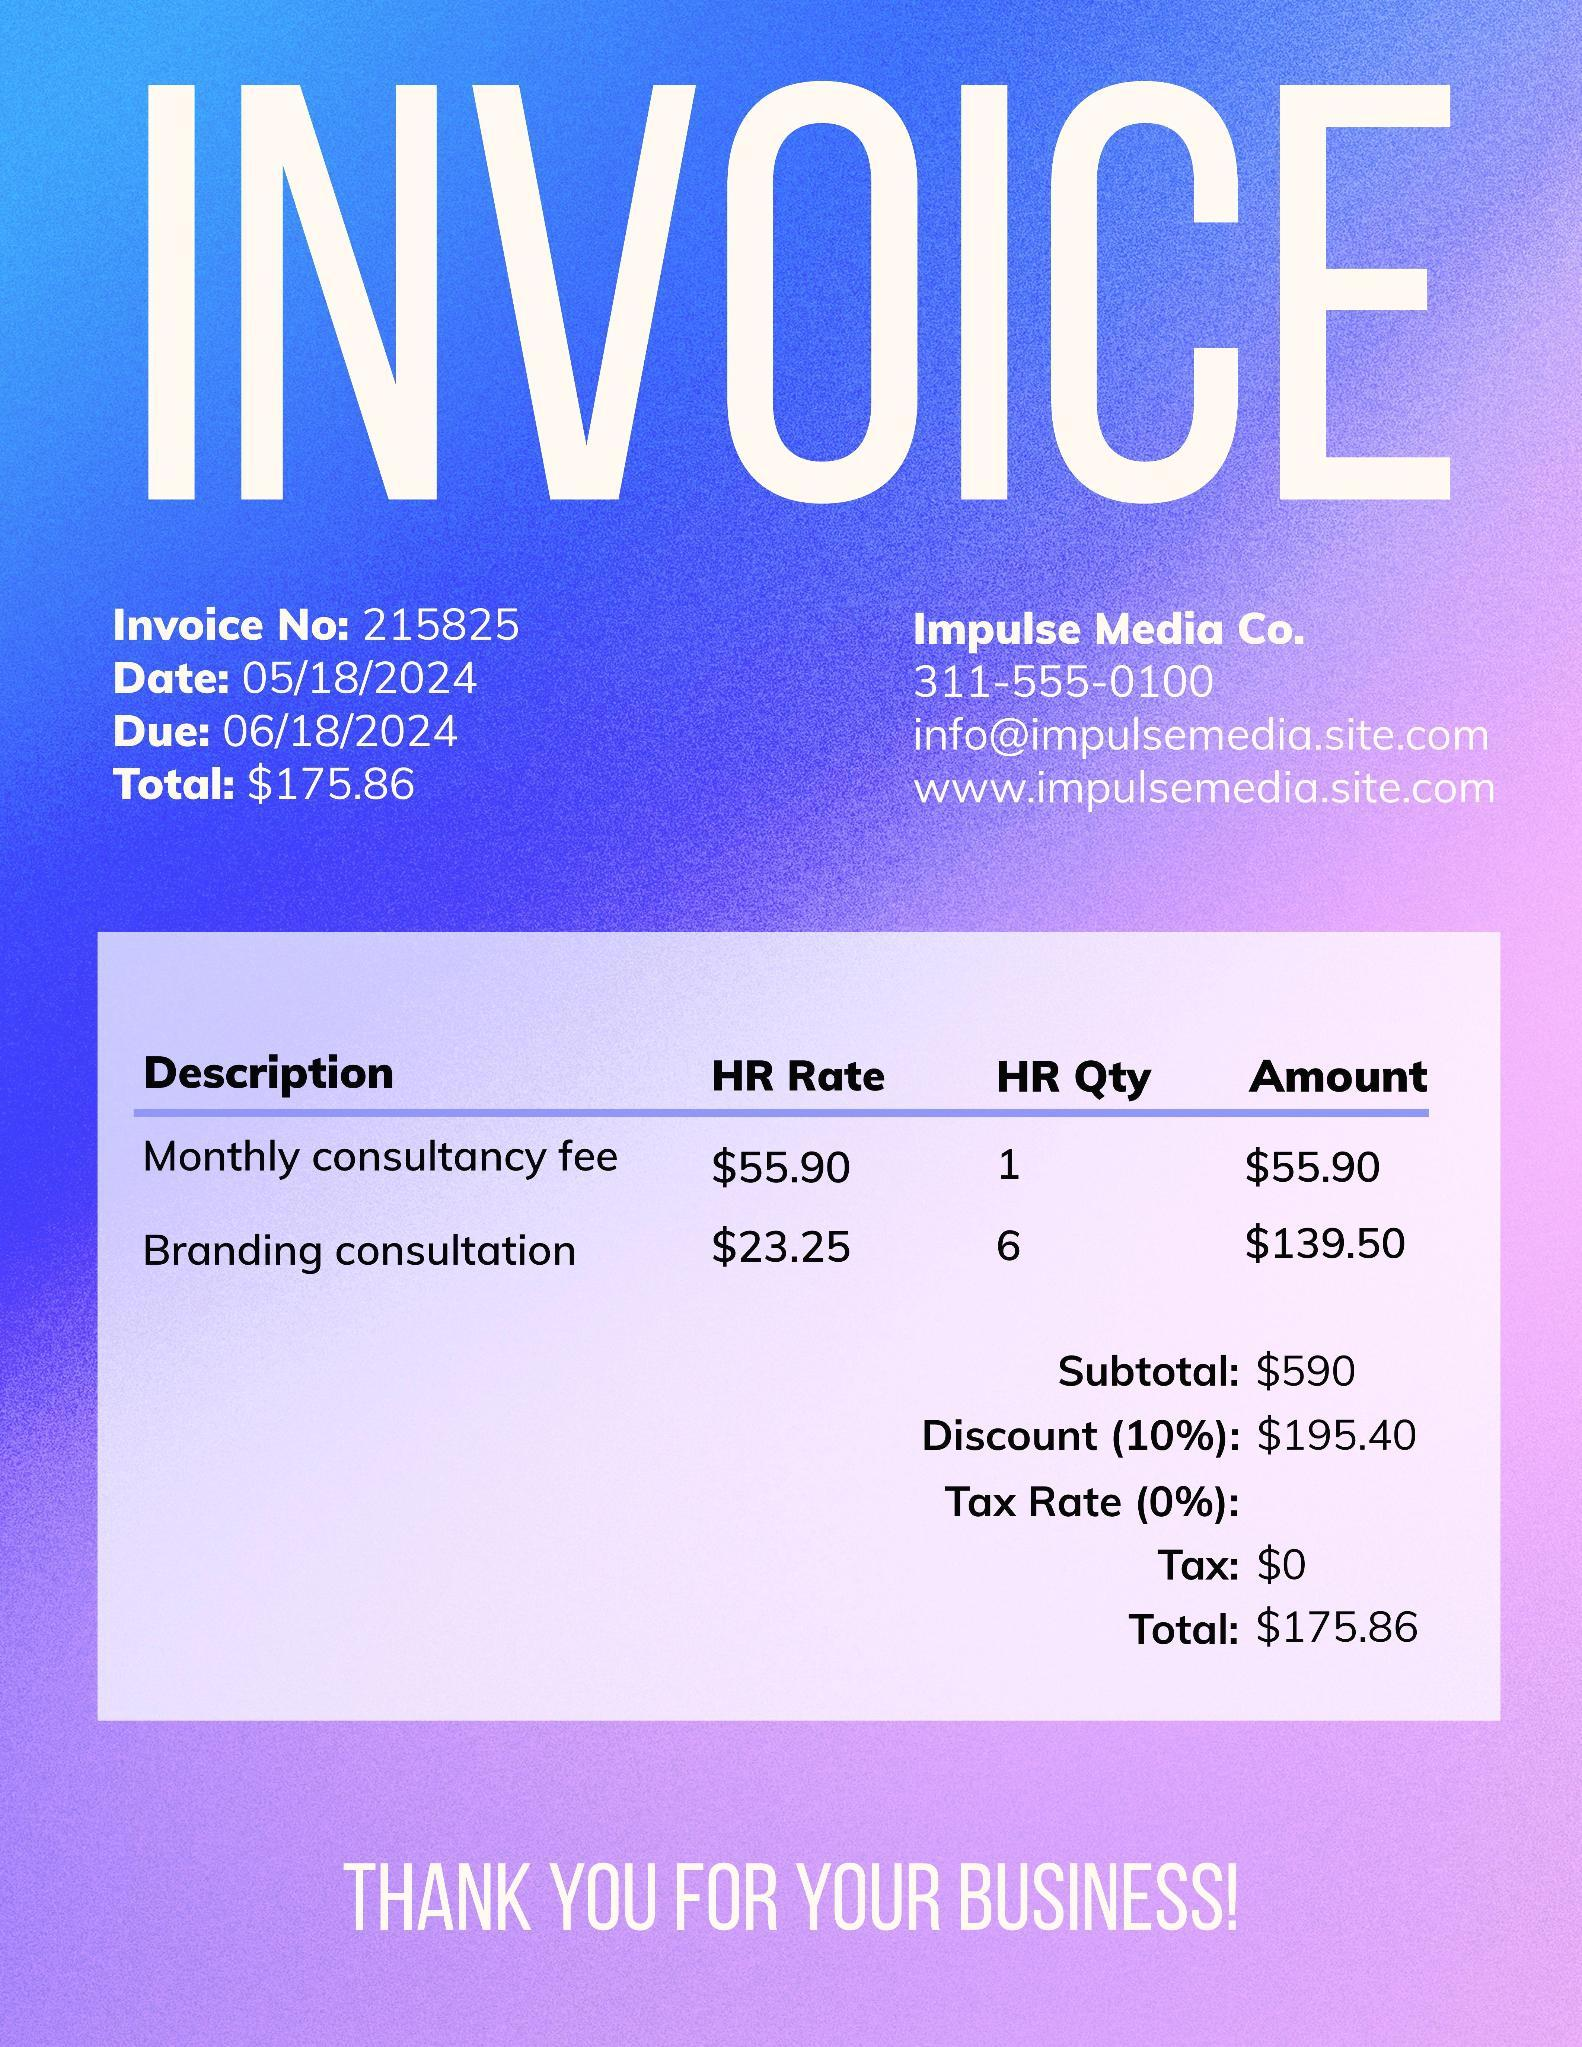ROI: (120, 70, 1486, 522), (113, 960, 1472, 1313), (896, 1341, 1461, 1655), (906, 595, 1534, 832), (327, 1833, 1273, 1986), (100, 595, 537, 811)
